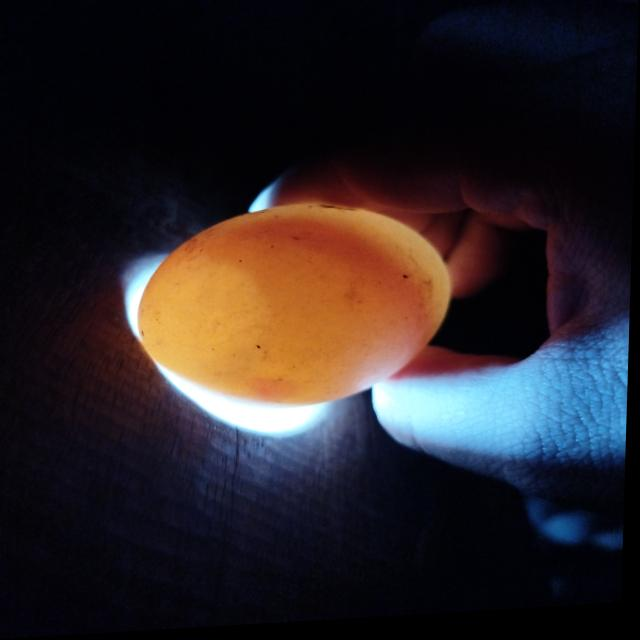Camara de Ar: (139, 265, 270, 390)
Gema Quebrada: (226, 221, 436, 399)
